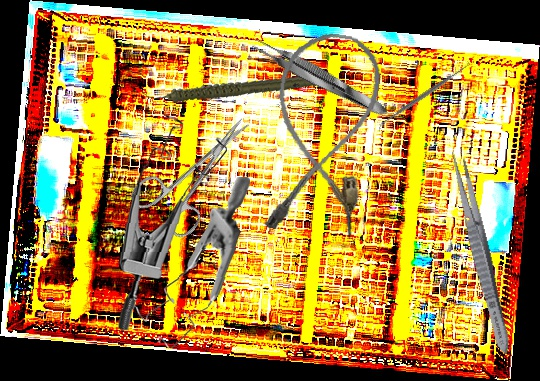Cannula: (257, 26, 387, 242)
Dressing Forceps: (444, 147, 517, 358)
Handpiece: (141, 50, 319, 124)
Iris Scissors: (126, 98, 274, 246)
Spatula Surgical: (373, 59, 474, 133)
Speculum: (116, 112, 229, 336), (130, 176, 256, 350)
Tissue Forceps: (248, 33, 392, 123)
